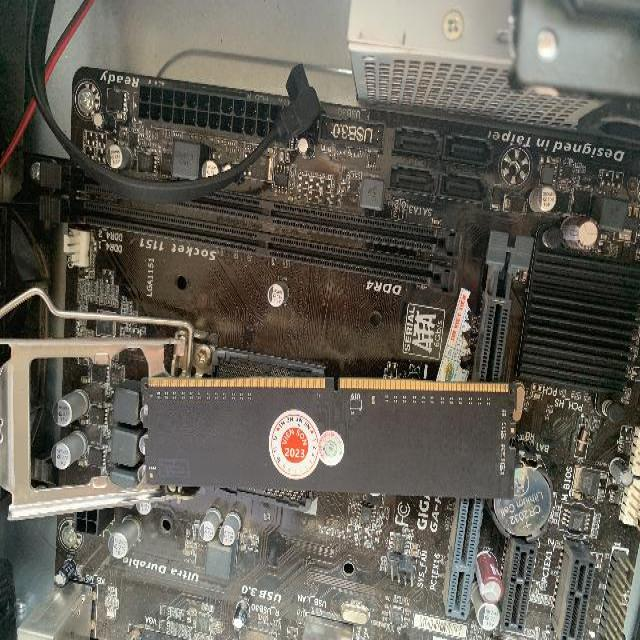Mainboard: (64, 140, 636, 640)
PSU: (325, 0, 638, 143)
RAM: (138, 375, 516, 500)
